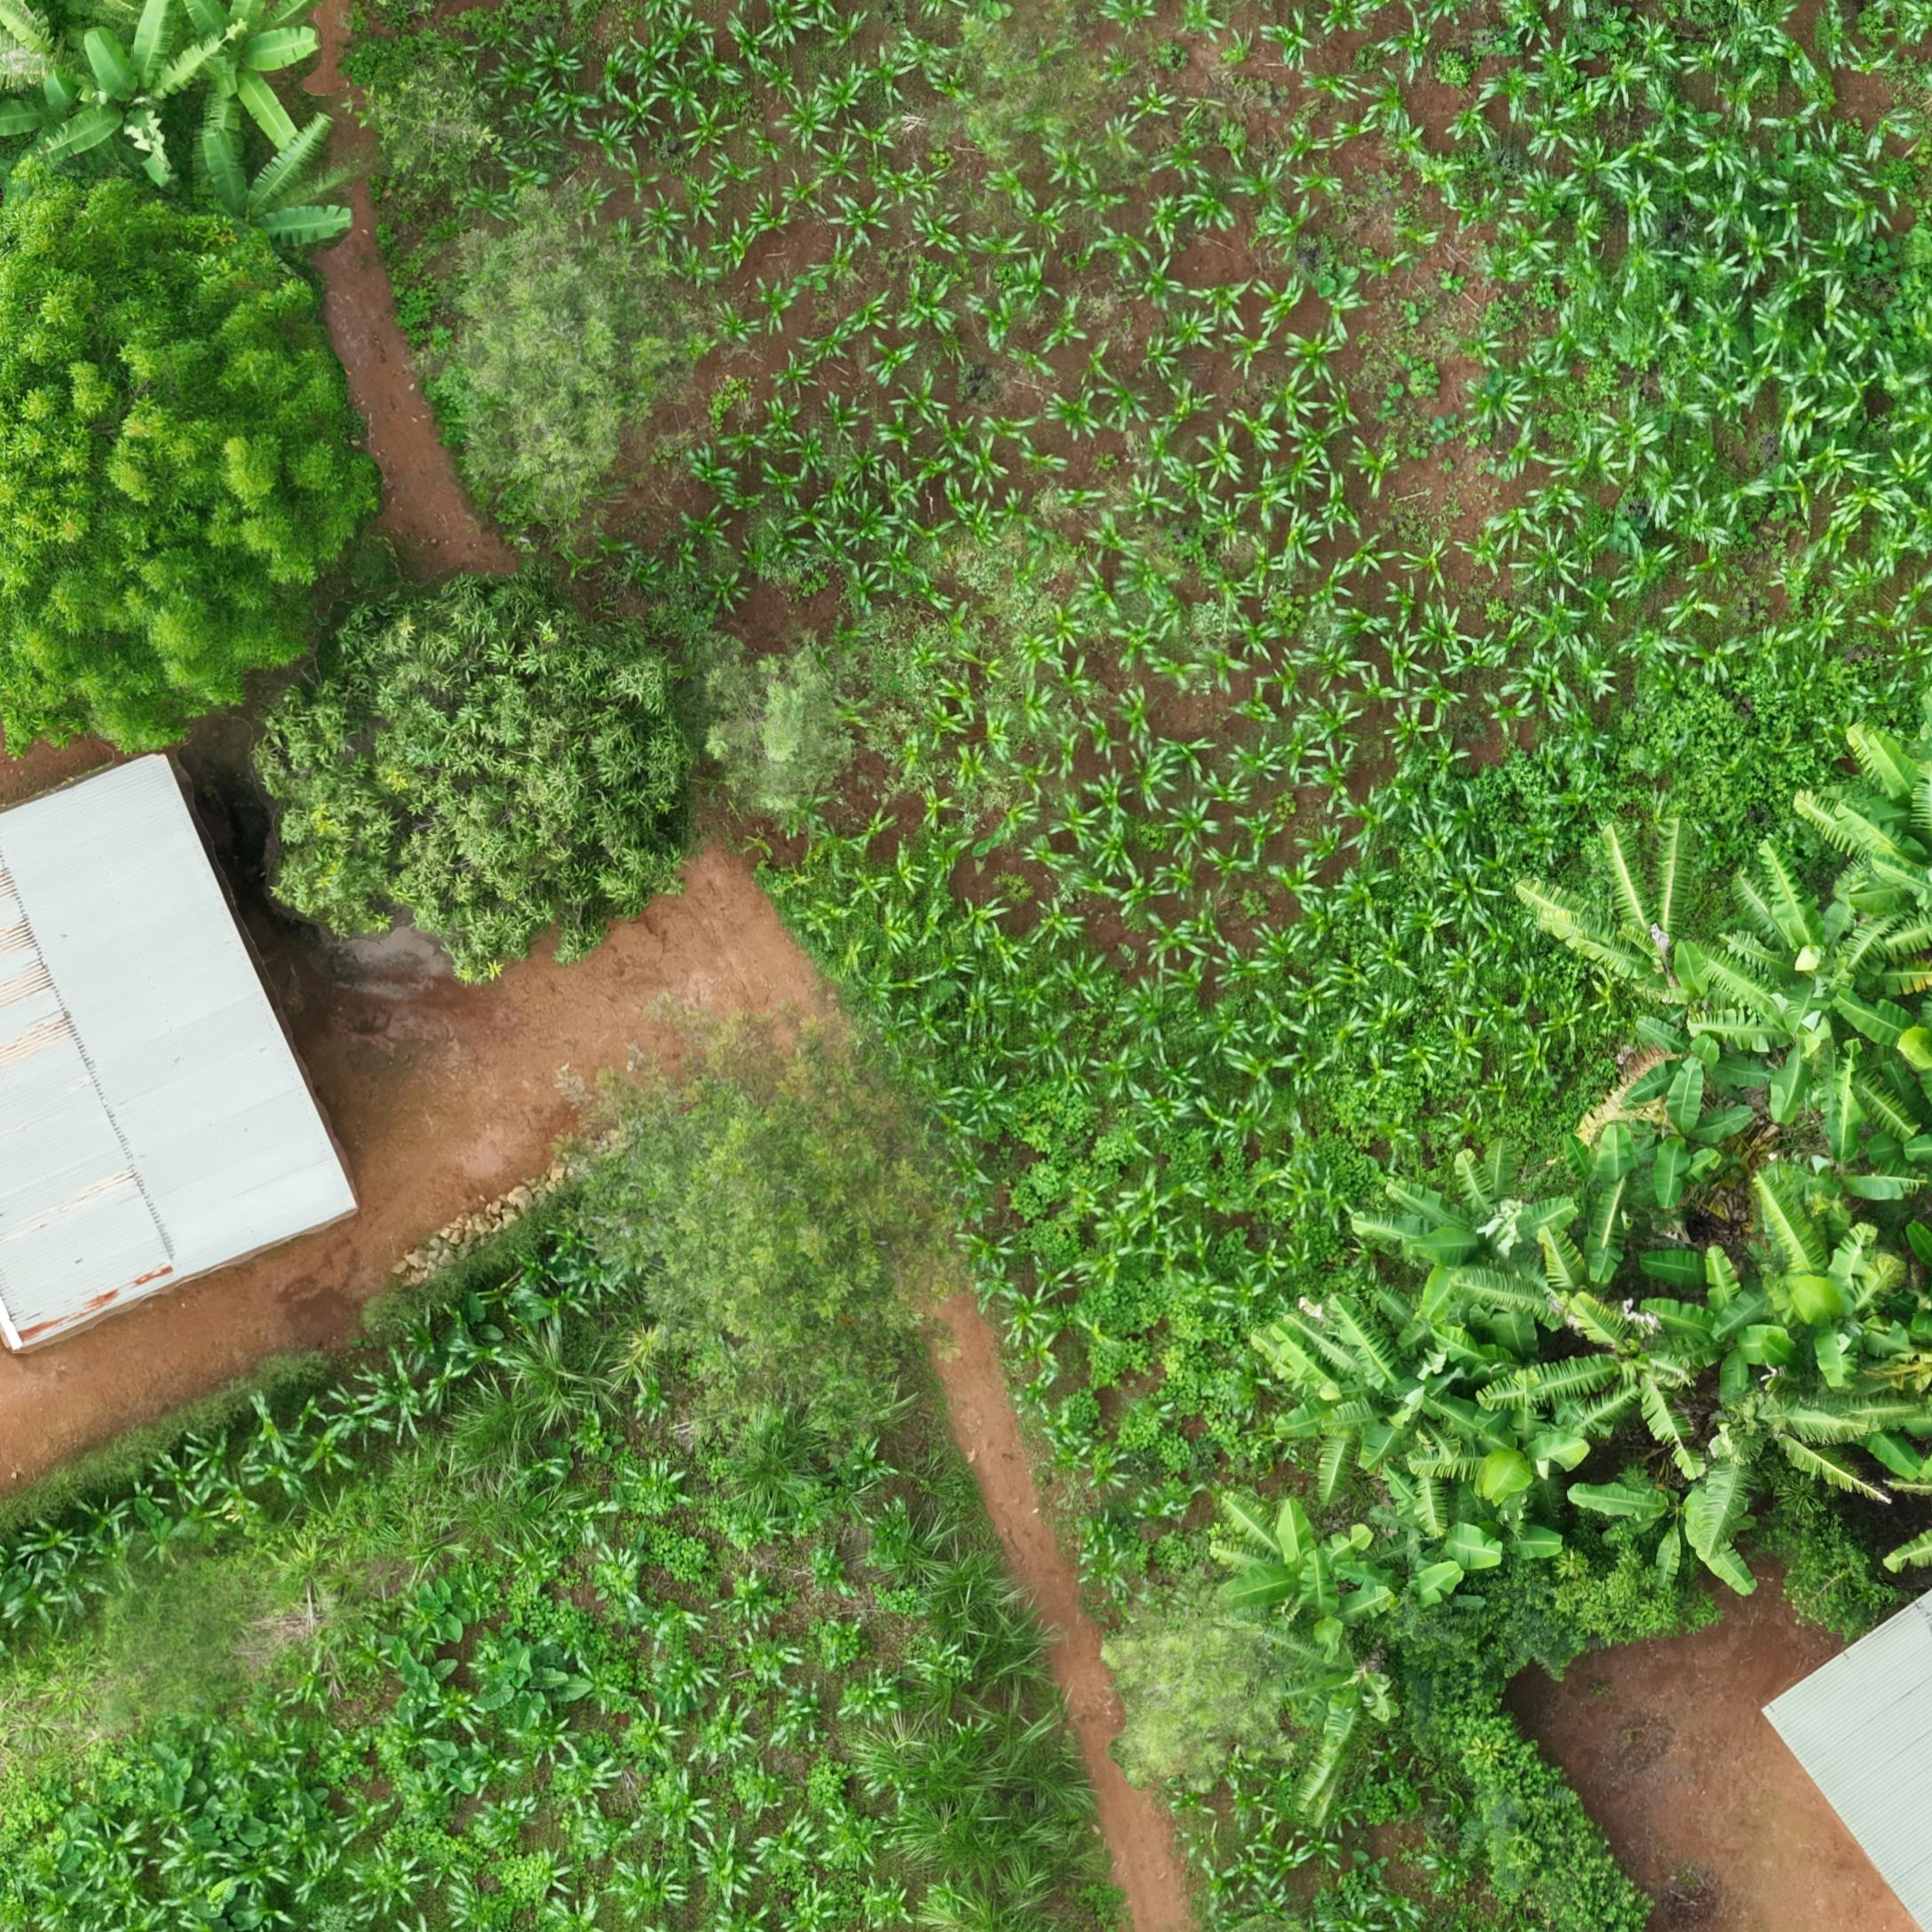Banana: (1530, 1343, 1769, 1534), (46, 2, 258, 196), (1566, 844, 1759, 1040), (1401, 1233, 1633, 1385), (1304, 1675, 1454, 1900), (1764, 1438, 1932, 1622), (1628, 1530, 1829, 1675), (1787, 872, 1932, 1072), (1764, 968, 1904, 1173), (1702, 1292, 1858, 1460), (202, 115, 364, 255), (1373, 1336, 1490, 1530), (189, 4, 333, 161), (1300, 1353, 1412, 1555), (1261, 1543, 1428, 1672), (1681, 1046, 1840, 1177), (1525, 1277, 1721, 1378), (1688, 1100, 1821, 1246), (1507, 1444, 1651, 1576), (1424, 1513, 1560, 1638), (1851, 741, 1932, 932), (1495, 1345, 1608, 1476), (1854, 1267, 1932, 1444), (2, 73, 120, 177), (1868, 1079, 1932, 1246), (1387, 1612, 1518, 1677), (1352, 1651, 1449, 1716), (1426, 1316, 1490, 1405)
